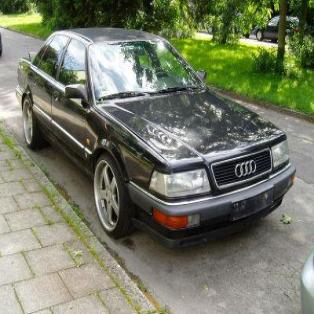Auto: (16, 23, 294, 254)
